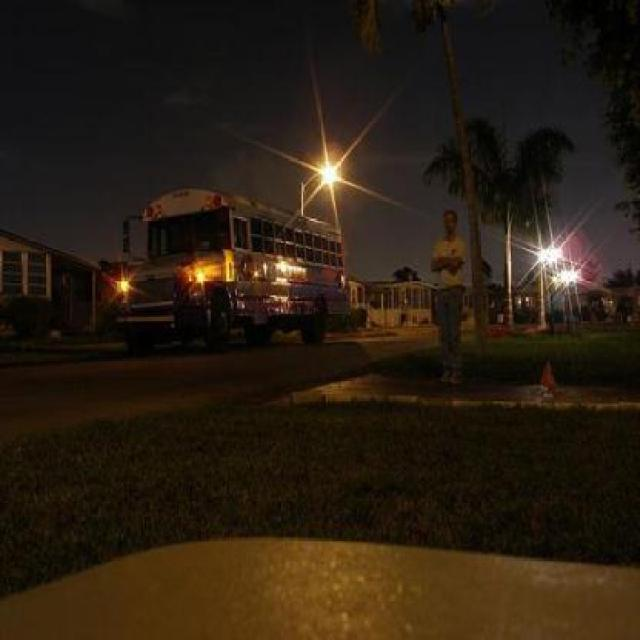Person: (430, 209, 467, 386)
